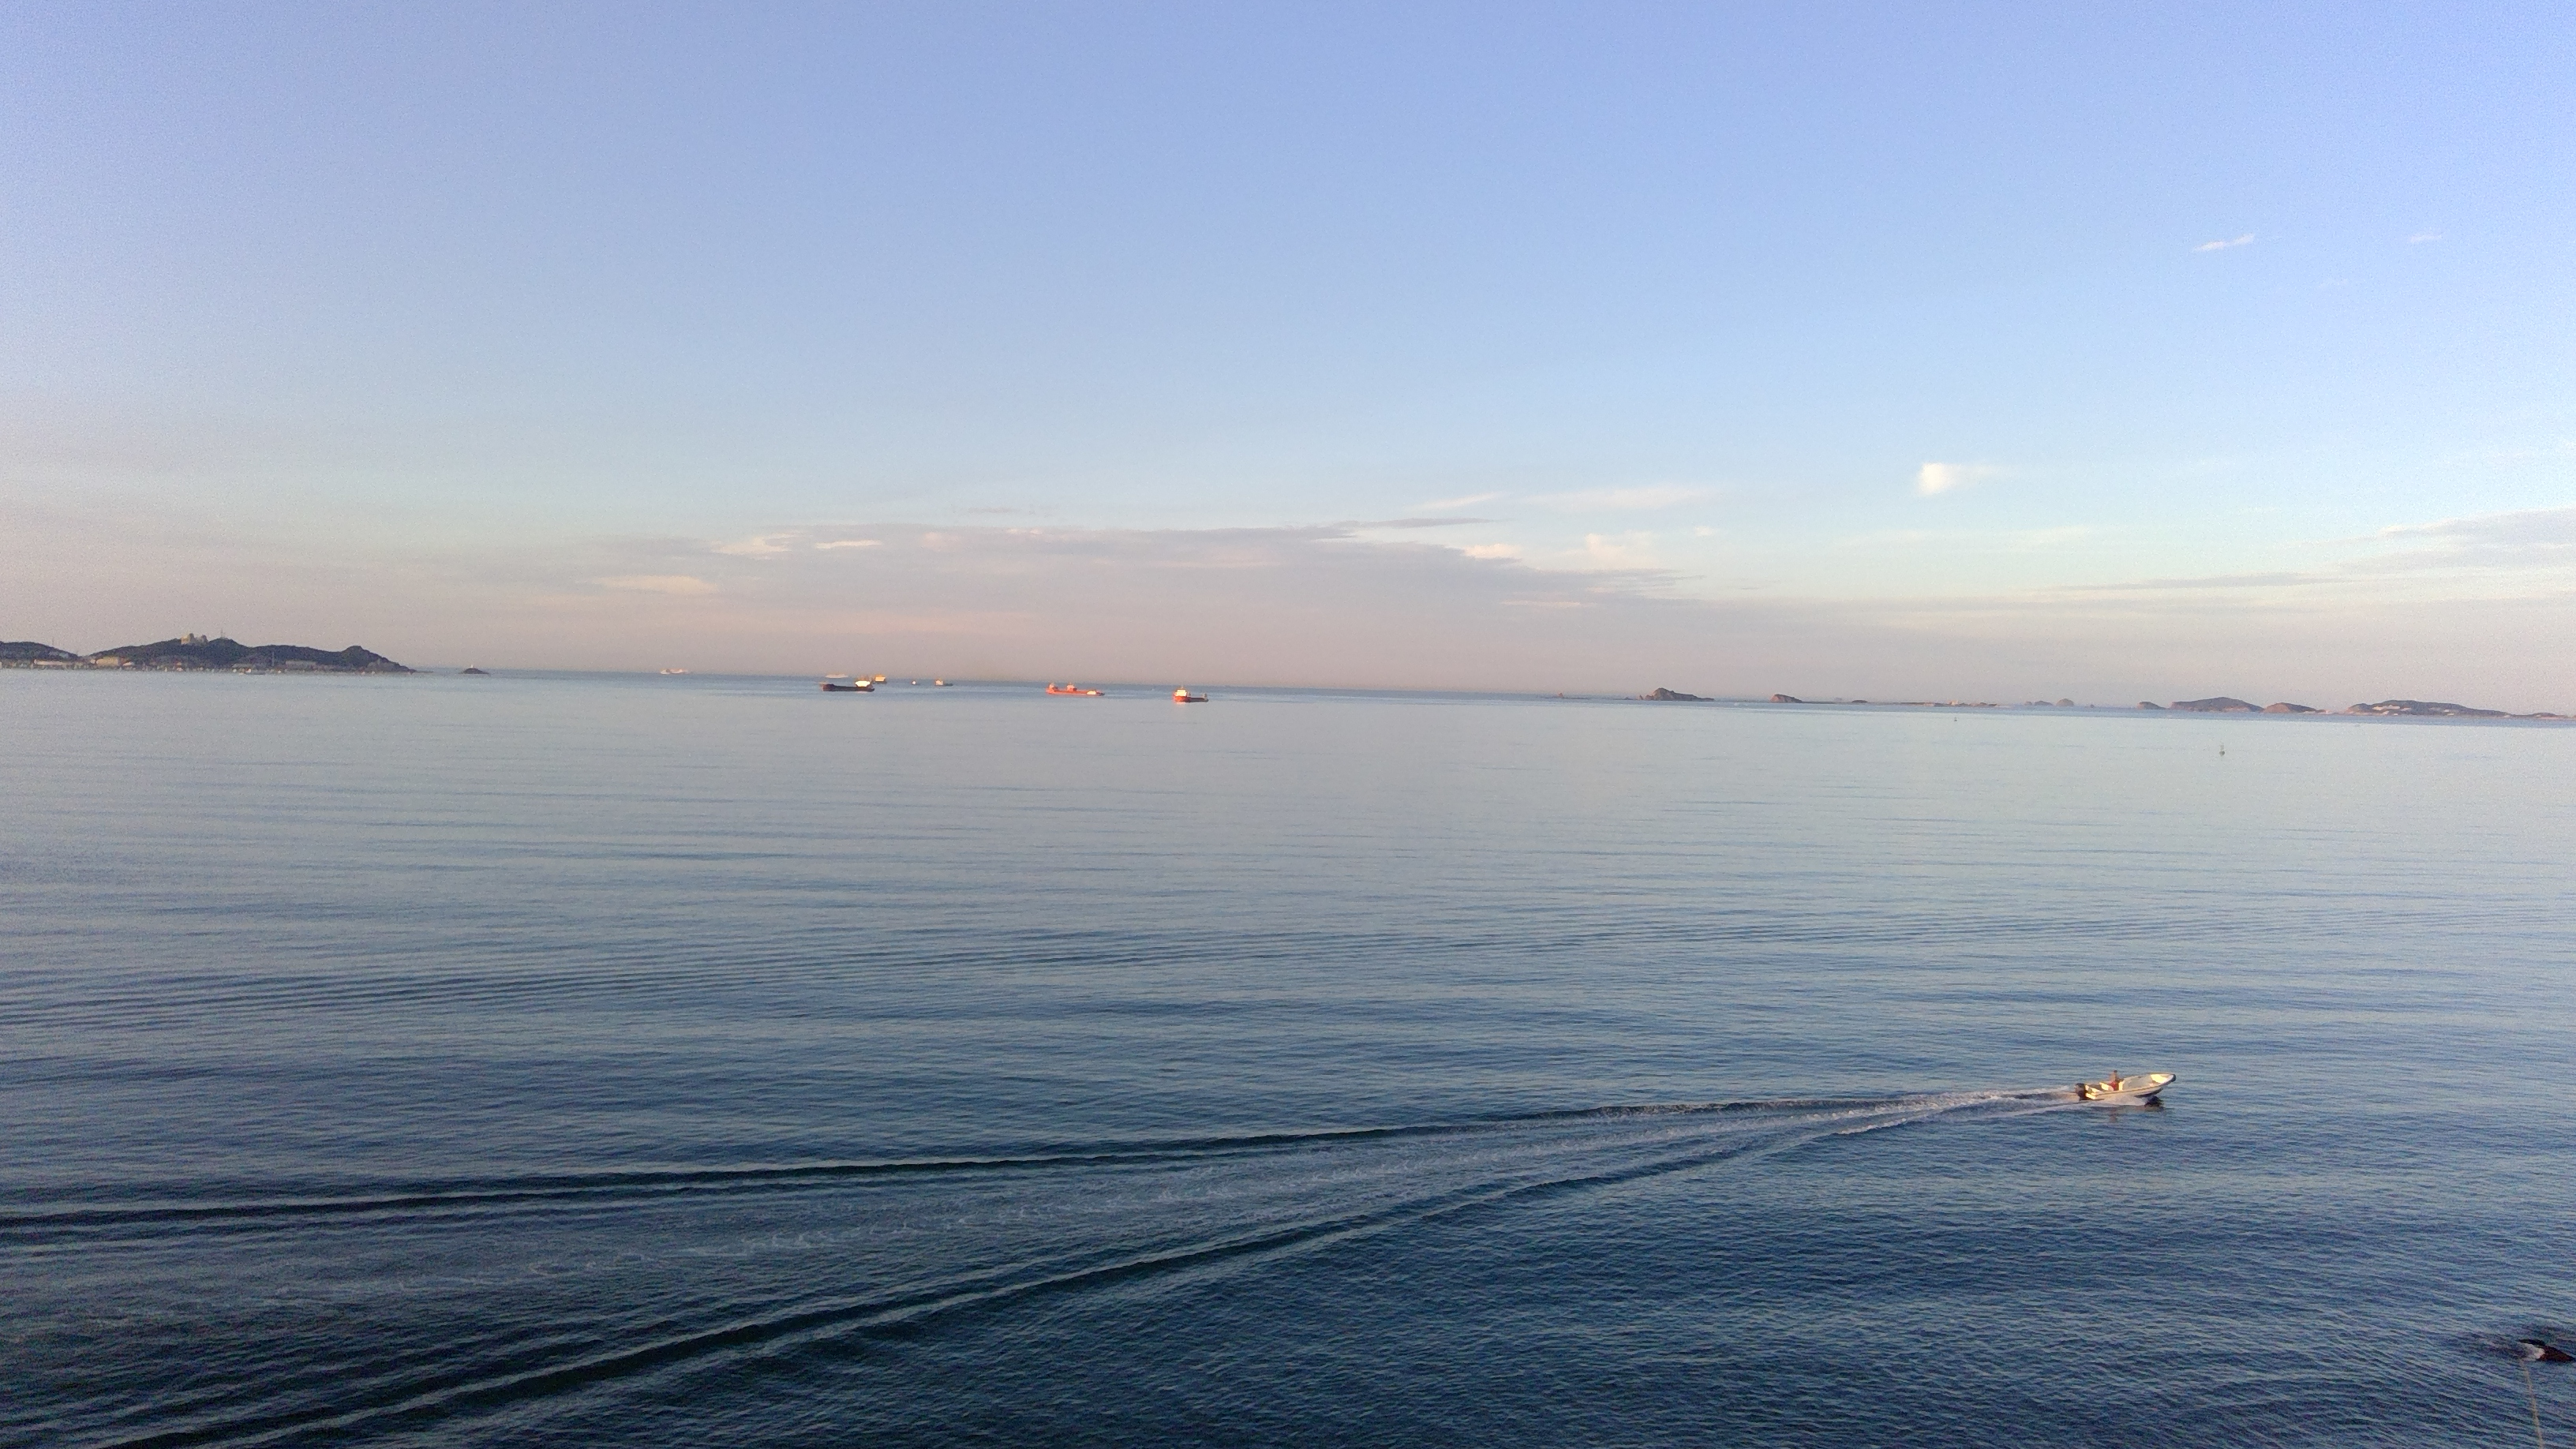boat: (2051, 1047, 2181, 1115)
rock: (2162, 676, 2576, 732), (108, 626, 403, 678), (1629, 665, 1718, 718), (0, 623, 78, 663)
ship: (814, 674, 897, 701), (1042, 678, 1109, 706), (1171, 676, 1207, 711)
